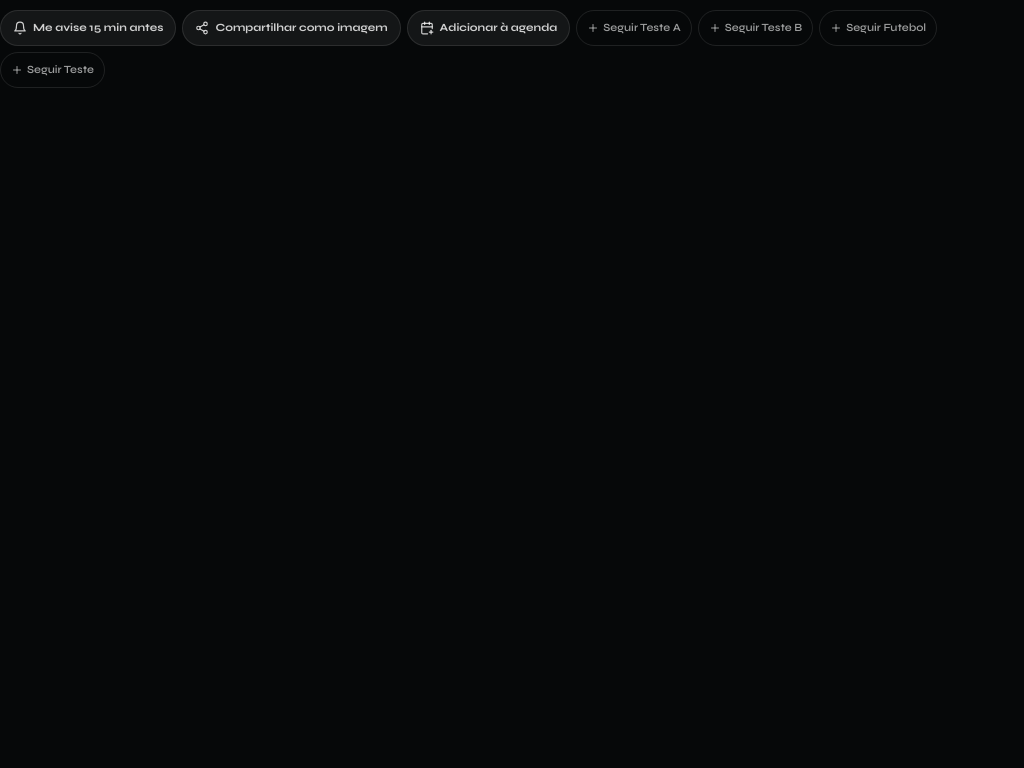
Test: GameActions — ajuda de permissão do sino › C3 — ajuda: mostra som do canal e 'não force a parada do Chrome'
Click the button with aria-label "Me avise 15 min antes de Teste A" at (88, 28), box [0, 10, 176, 46]
(page scrolled)
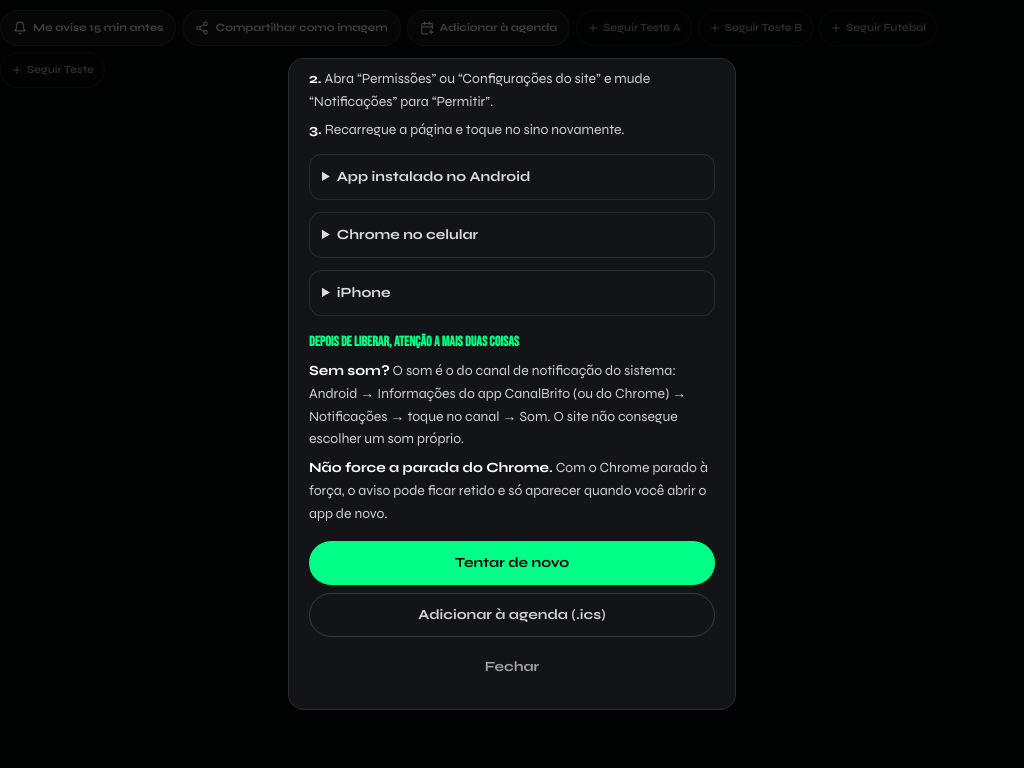
Check: the dialog "Notificações bloqueadas" is shown
Check: the heading "Depois de liberar, atenção a mais duas coisas" is shown, box [309, 333, 519, 350]
Check: the text "Sem som?" is shown, box [309, 362, 390, 379]
